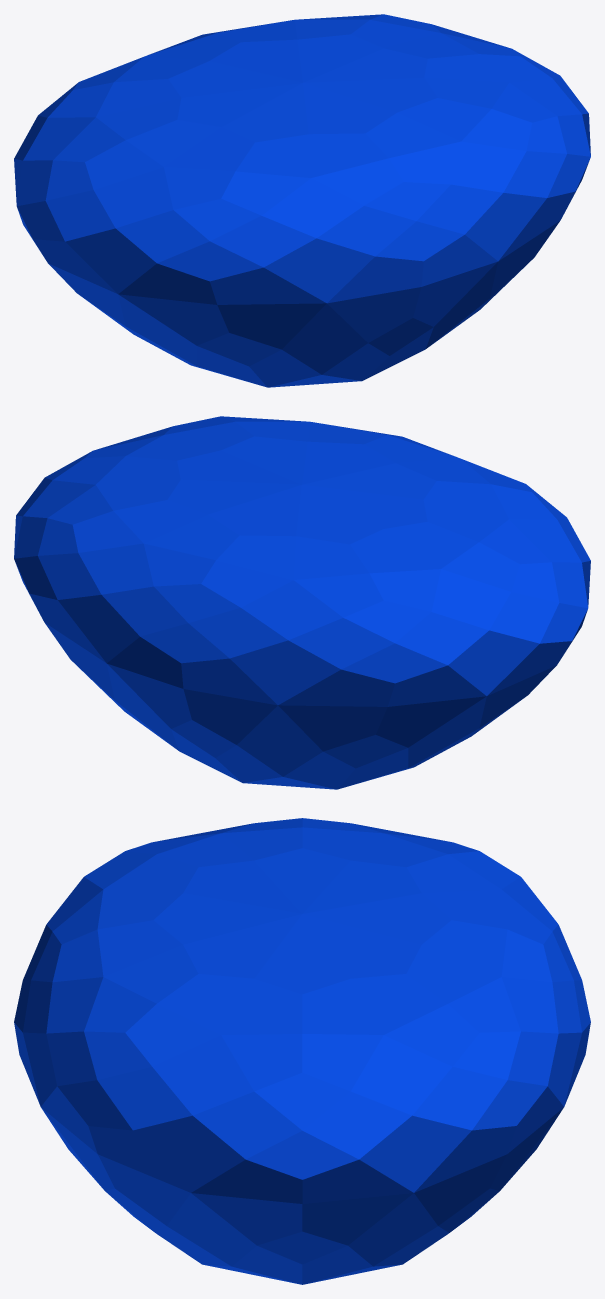
File: Blue-Sapphire.glb
The picture shows the model from 3 angles, top to bottom: view 1: azimuth 30°, elevation 25°; view 2: azimuth 150°, elevation 25°; view 3: azimuth 270°, elevation 25°; orthographic projection. The views are drawn at different scales.
Parts seen in each view (by area): view 1: Gem; view 2: Gem; view 3: Gem.
Part boxes in pixels (x1,y1,x2,y2): Gem: [14, 14, 590, 387]; Gem: [14, 416, 590, 789]; Gem: [14, 818, 590, 1284].
Bounding box in the file's own units: 1.83 × 0.9772 × 1.42.
